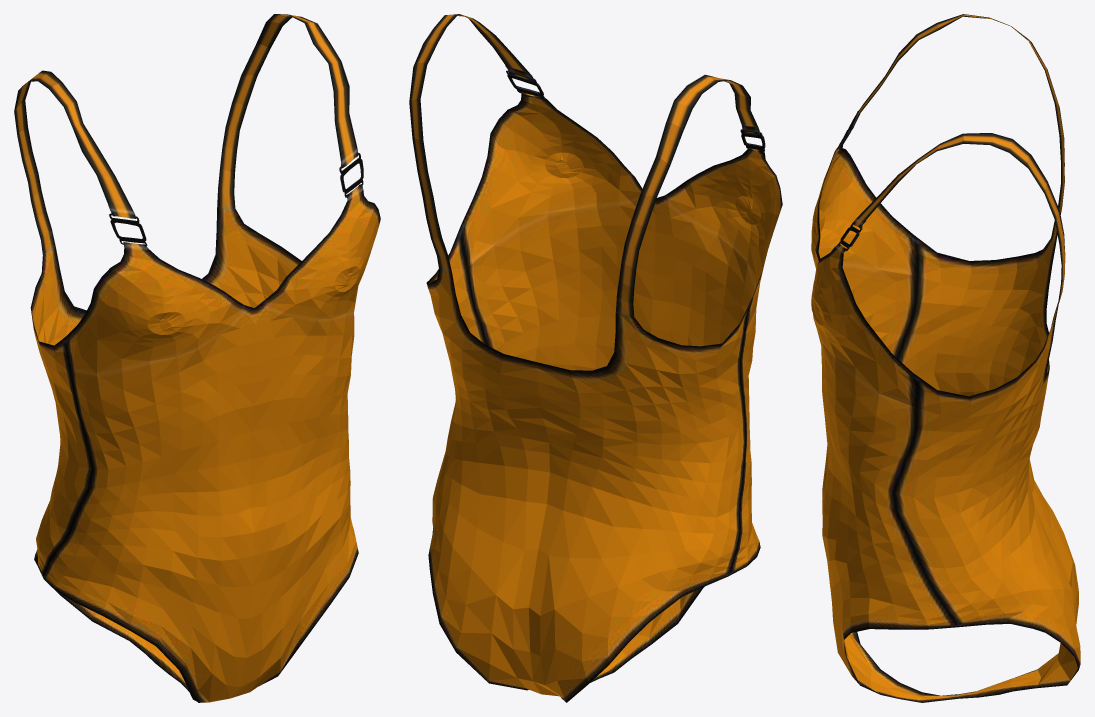
The model's file is mhw_mindfront_f_one-piece_swimsuit_01.glb.
3 renders of one model, left to right at view 1: azimuth 30°, elevation 25°; view 2: azimuth 150°, elevation 25°; view 3: azimuth 270°, elevation 25°, orthographic. The views are drawn at different scales.
Parts seen in each view (by area): view 1: mhw_mindfront_f_one-piece_swimsuit_01; view 2: mhw_mindfront_f_one-piece_swimsuit_01; view 3: mhw_mindfront_f_one-piece_swimsuit_01.
Part boxes in pixels (box(x1,y1,x2,y2)): mhw_mindfront_f_one-piece_swimsuit_01: box(14, 14, 380, 702); mhw_mindfront_f_one-piece_swimsuit_01: box(409, 14, 782, 702); mhw_mindfront_f_one-piece_swimsuit_01: box(811, 14, 1080, 702).
Size of the model in its own units: 0.3212 by 0.6667 by 0.2606.
1 material, 1 textured.
